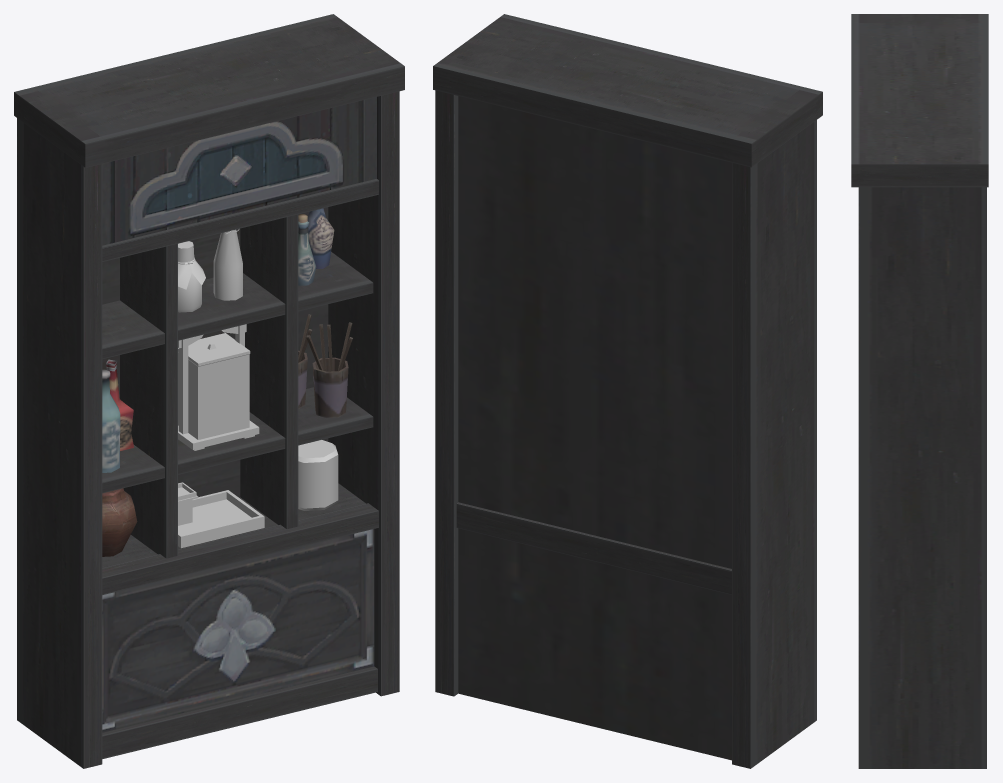
File: Homeworld_Interior_Dq_Cabinet_Cabinet_03_Vo.fbx
The picture shows the model from 3 angles, left to right: view 1: azimuth 30°, elevation 25°; view 2: azimuth 150°, elevation 25°; view 3: azimuth 270°, elevation 25°; orthographic projection. The views are drawn at different scales.
Visible parts, largest first — view 1: Indoor_Dq_Build_Comp_Cupboard_01_Vo; view 2: Indoor_Dq_Build_Comp_Cupboard_01_Vo; view 3: Indoor_Dq_Build_Comp_Cupboard_01_Vo.
Boxes of the visible parts, x1,y1,x2,y2 form: Indoor_Dq_Build_Comp_Cupboard_01_Vo: (14, 14, 404, 768); Indoor_Dq_Build_Comp_Cupboard_01_Vo: (433, 14, 822, 768); Indoor_Dq_Build_Comp_Cupboard_01_Vo: (851, 14, 988, 768).
Size of the model in its own units: 1.66 by 3.11 by 0.6412.
